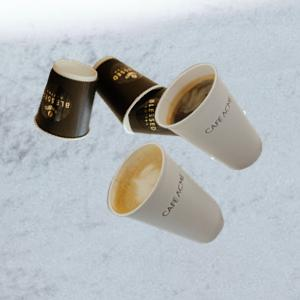cup: (33, 62, 100, 140)
